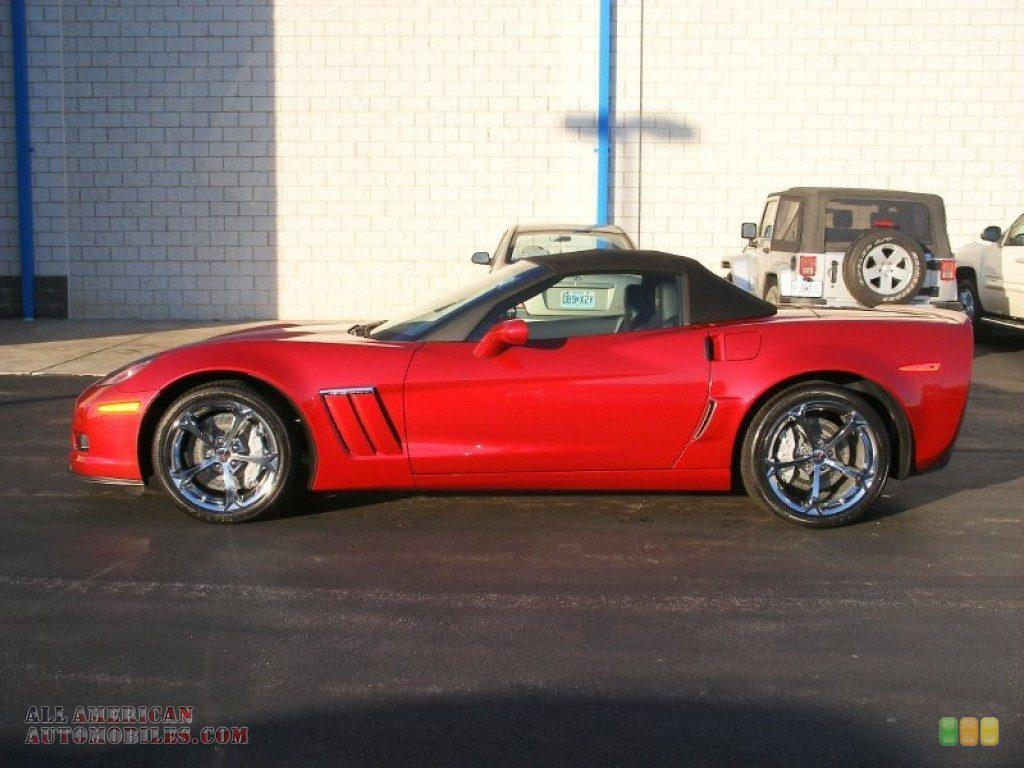car: (38, 188, 991, 584), (728, 160, 994, 312)
